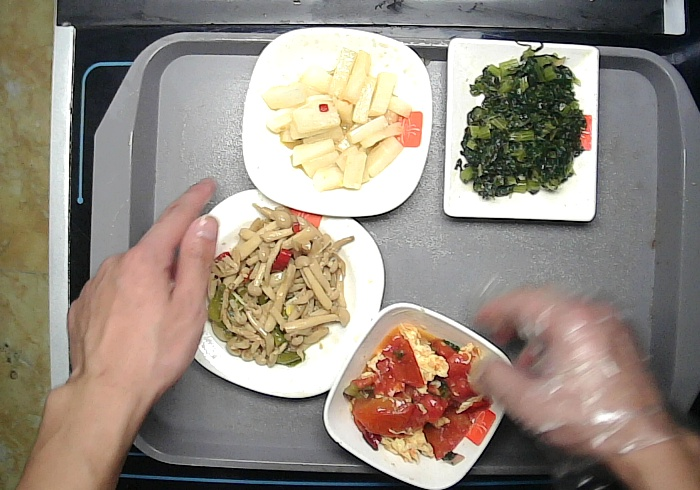SHKJ-Bai_Se_Cai_Die: (239, 24, 430, 218)
SHKJ-Bai_Se_Si_Fang_Cai_Die: (194, 187, 385, 400)
SHKJ-Bai_Se_Xiao_Fang_Die: (320, 300, 515, 490)
SHKJ-Si_Fang_Min: (442, 36, 601, 224)
